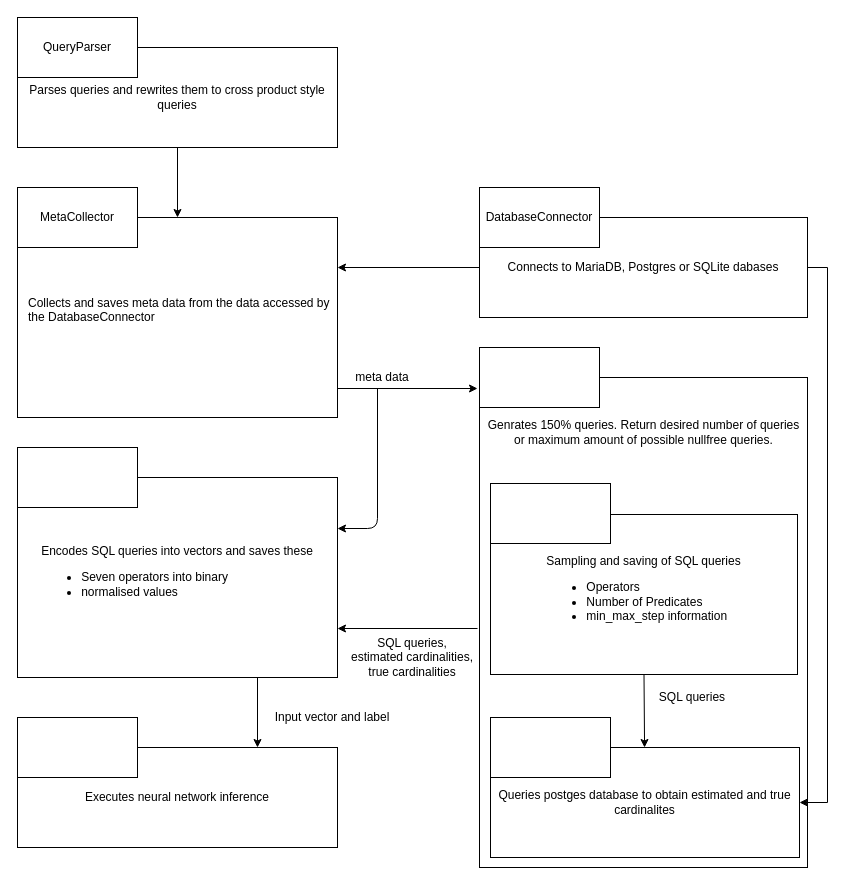
This 853x885 diagram has some shape labels left out. Here are the shapes that lost their labels. From the top down, the centre of each, then its label:
pixel 539 377: QueryCommunicator
pixel 77 477: Vectorizer
pixel 550 513: SQLGenerator
pixel 77 747: Estimator
pixel 550 747: DatabaseEvaluator
